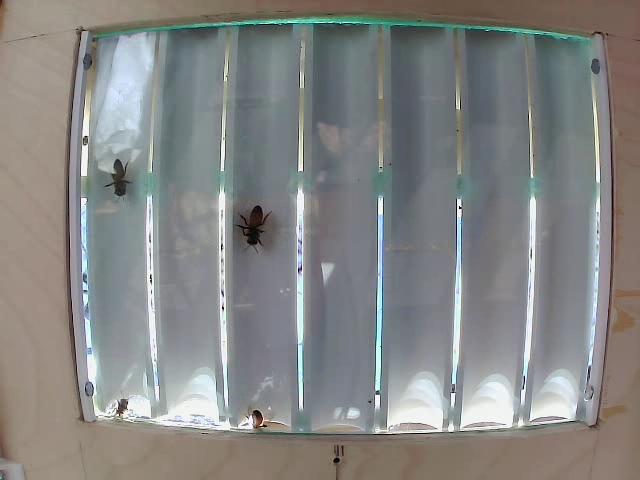bee: (228, 197, 280, 272), (90, 152, 141, 200)
